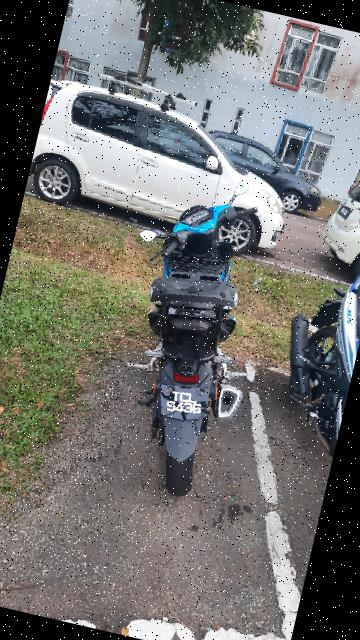License_Plate: (152, 375, 223, 432)
car: (25, 70, 310, 267), (323, 161, 360, 286)
motorcycle: (85, 161, 323, 519), (266, 237, 360, 463)
